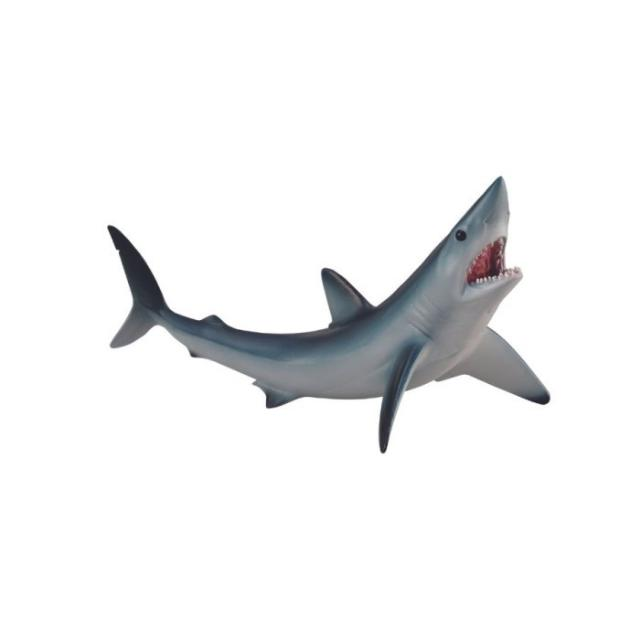Mulut: (451, 226, 537, 312)
Sirip Anal: (178, 306, 228, 370)
Sirip Dada: (372, 318, 558, 454)
Sirip Ekor: (92, 211, 172, 367)
Sirip Perut: (244, 376, 316, 428)
Sirip Punggung: (312, 258, 382, 338)
